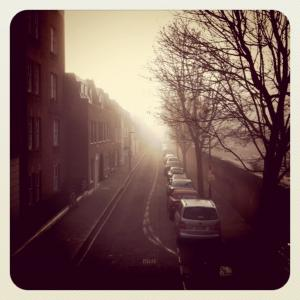Vehicle-registration-plate: (192, 226, 209, 232)
